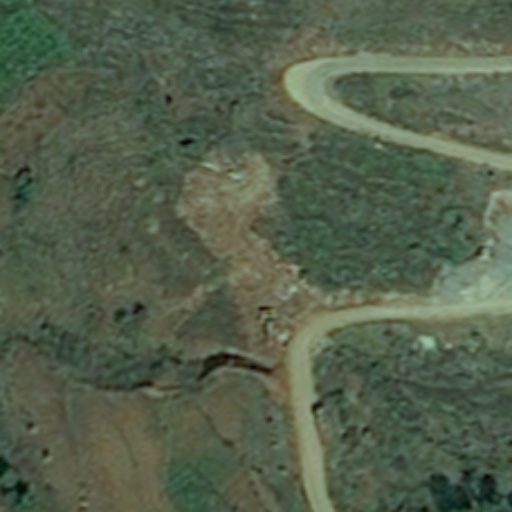landslide: (179, 147, 306, 341)
